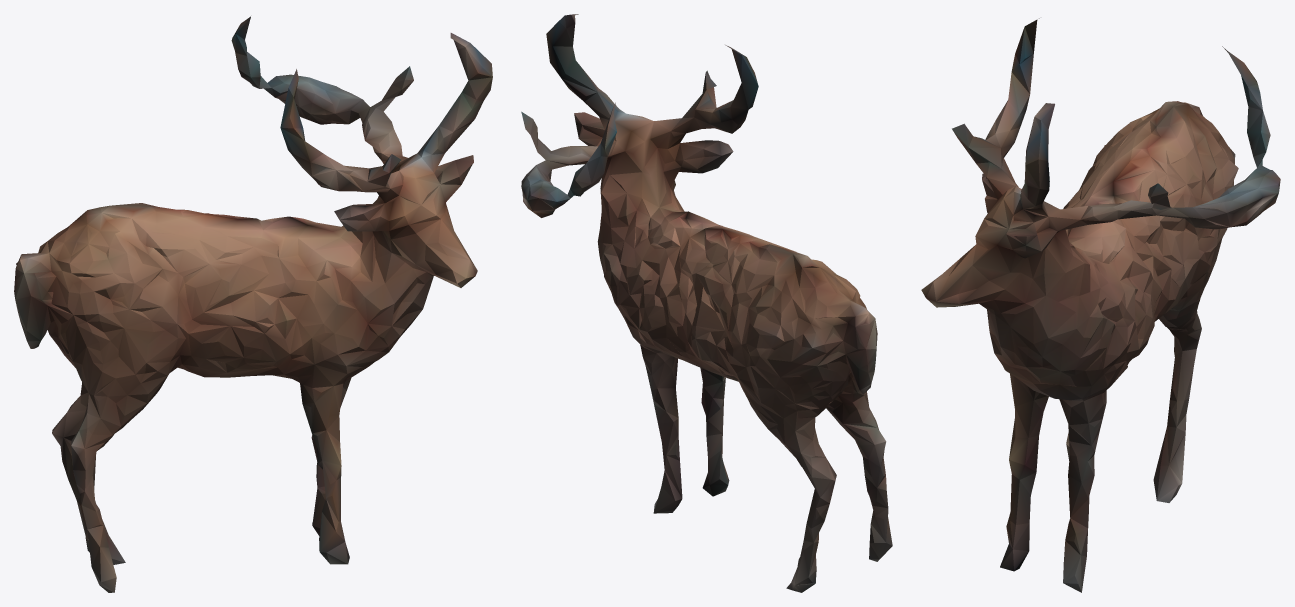
The model's file is deer.glb.
The picture shows the model from 3 angles, left to right: view 1: azimuth 30°, elevation 25°; view 2: azimuth 150°, elevation 25°; view 3: azimuth 270°, elevation 25°; orthographic projection. The views are drawn at different scales.
Parts seen in each view (by area): view 1: geometry_0; view 2: geometry_0; view 3: geometry_0.
Boxes of the visible parts, left/top/right/bottom form: geometry_0: left=14, top=16, right=492, bottom=592; geometry_0: left=521, top=14, right=892, bottom=592; geometry_0: left=921, top=18, right=1280, bottom=592.
Size of the model in its own units: 0.8439 by 0.9872 by 0.5782.
